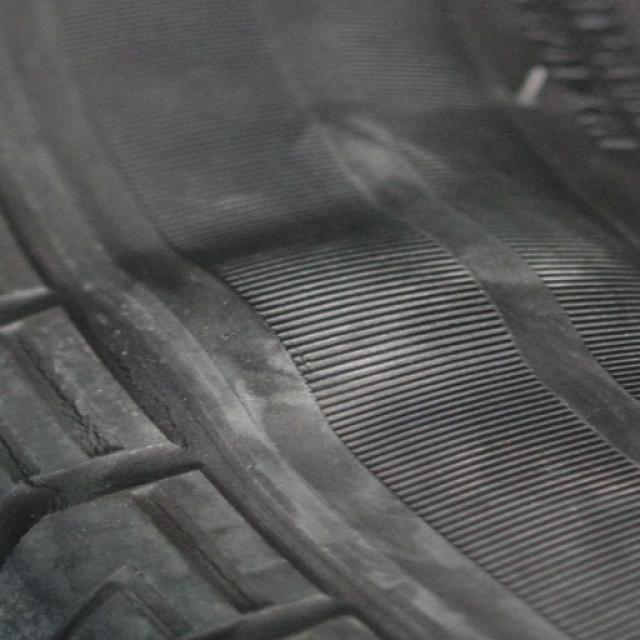Bulge: (110, 167, 623, 474)
